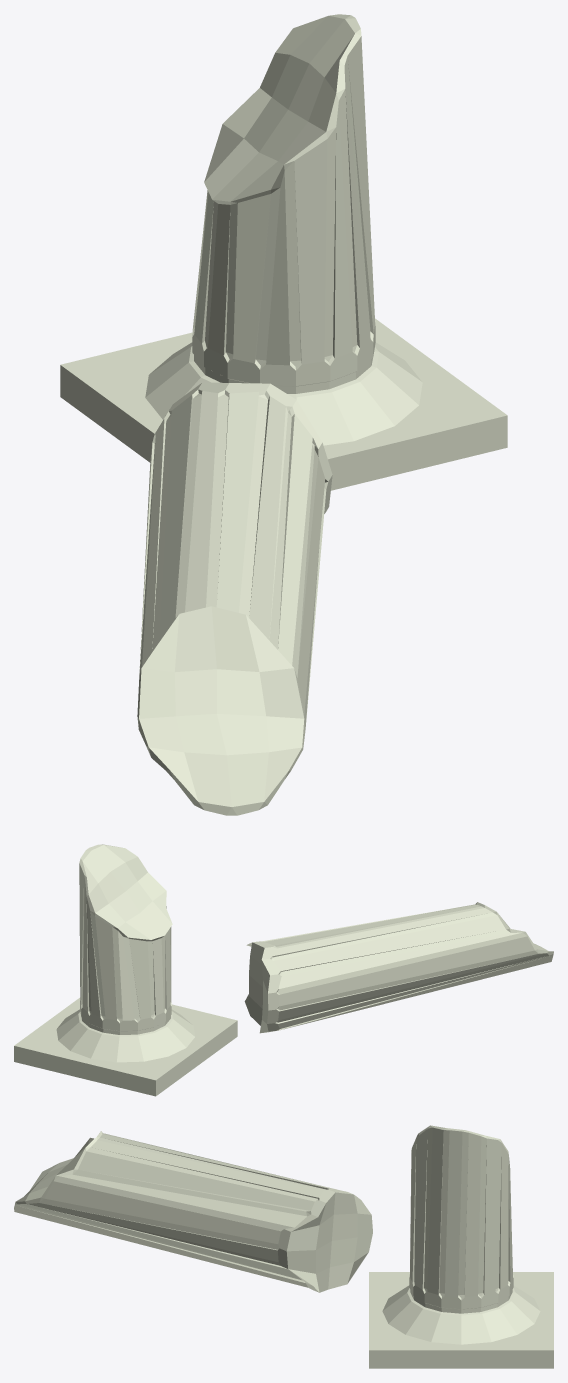
The model's file is greek_pillar_broken_3.fbx.
The picture shows the model from 3 angles, top to bottom: view 1: azimuth 30°, elevation 25°; view 2: azimuth 150°, elevation 25°; view 3: azimuth 270°, elevation 25°; orthographic projection. The views are drawn at different scales.
Parts seen in each view (by area): view 1: Cube; view 2: Cube; view 3: Cube.
Part boxes in pixels (x1,y1,x2,y2): Cube: (60,14,507,815); Cube: (14,844,553,1096); Cube: (14,1125,553,1368).
Size of the model in its own units: 358 by 211 by 468.
